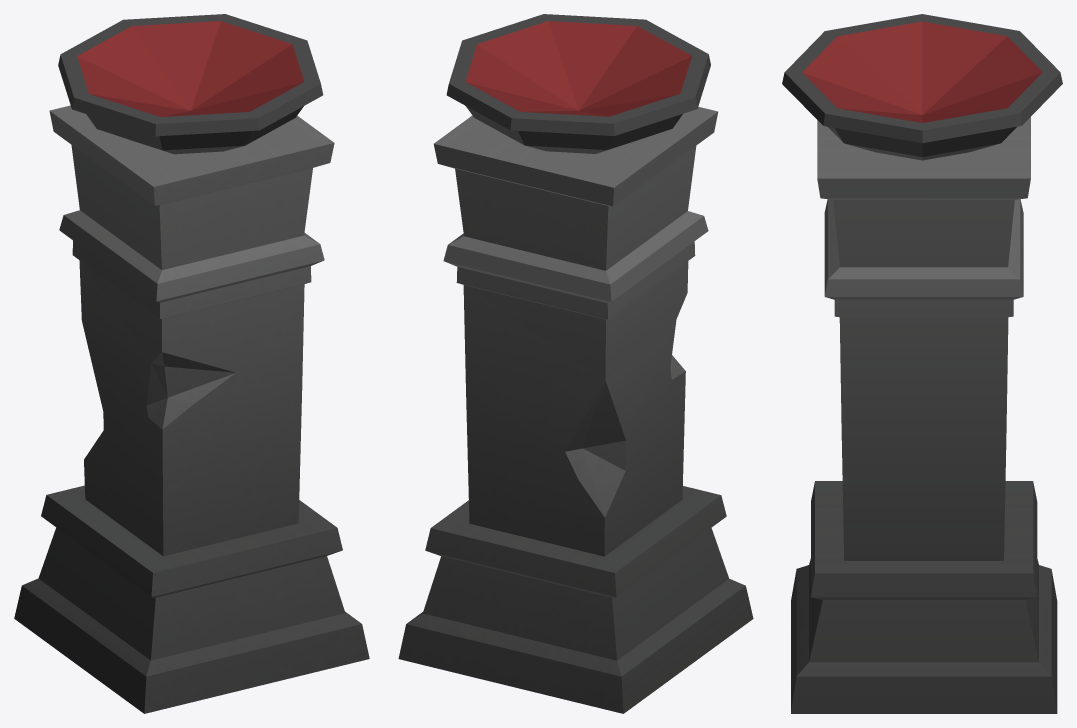
The model's file is ZLPC_Torch_05.FBX.
3 views of the same model, side by side, from view 1: azimuth 30°, elevation 25°; view 2: azimuth 150°, elevation 25°; view 3: azimuth 270°, elevation 25° (orthographic). The views are drawn at different scales.
Visible parts, largest first — view 1: ZLPC_Torch_05; view 2: ZLPC_Torch_05; view 3: ZLPC_Torch_05.
Part boxes in pixels (x1=…): ZLPC_Torch_05: x1=14, y1=14, x2=369, y2=713; ZLPC_Torch_05: x1=398, y1=14, x2=753, y2=713; ZLPC_Torch_05: x1=782, y1=14, x2=1062, y2=713.
Bounding box in the file's own units: 100 × 230 × 100.
Materials: 1 (1 with a texture image).
